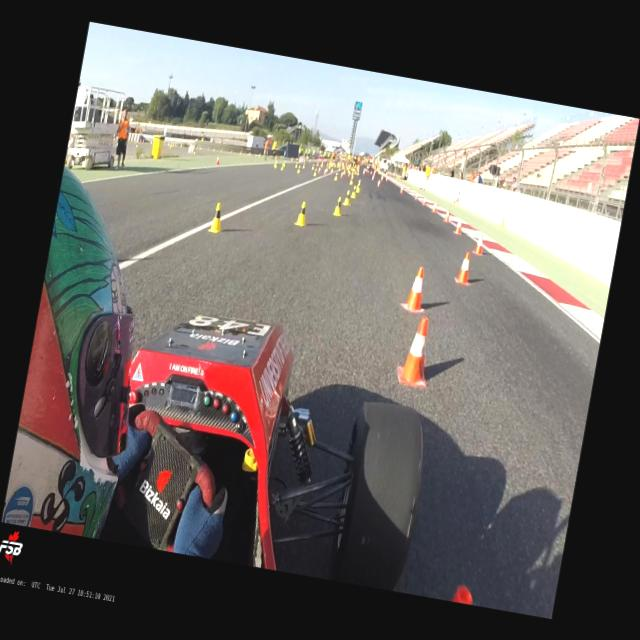orange_cone: (394, 314, 438, 390), (399, 264, 431, 314), (454, 250, 476, 286), (472, 232, 486, 256), (452, 218, 463, 235), (443, 210, 451, 223), (430, 202, 438, 214), (422, 196, 428, 207), (215, 156, 221, 166), (398, 184, 404, 194), (376, 178, 380, 188), (339, 171, 344, 178), (414, 192, 418, 200), (379, 174, 383, 182), (370, 175, 374, 181)
yellow_cone: (207, 200, 228, 233), (294, 200, 310, 227), (332, 195, 344, 216), (342, 188, 352, 206), (350, 184, 358, 198), (355, 180, 362, 192), (499, 216, 506, 228), (348, 175, 354, 185), (332, 172, 338, 182), (312, 168, 318, 176), (296, 166, 302, 173), (280, 162, 284, 170), (294, 161, 298, 169), (310, 162, 314, 170), (274, 161, 278, 168), (301, 162, 305, 169)
